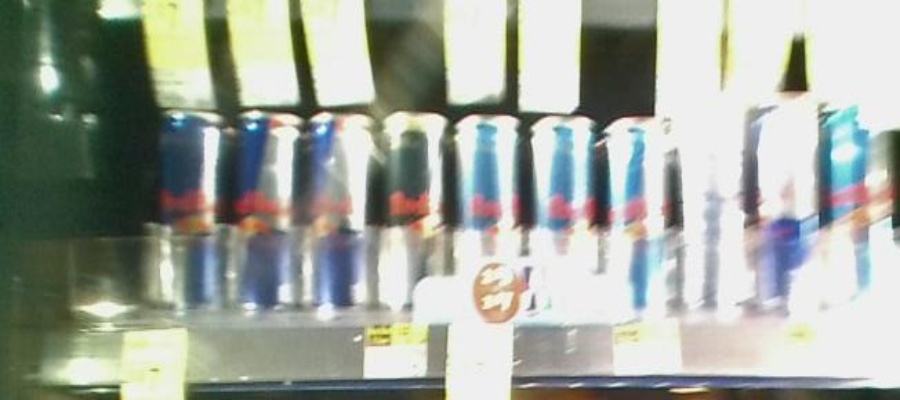bottle: (225, 101, 305, 326), (451, 101, 527, 331), (676, 109, 751, 324), (377, 99, 447, 321), (153, 101, 219, 326), (529, 104, 595, 328), (603, 104, 669, 319), (311, 99, 374, 319), (759, 97, 821, 319), (832, 103, 892, 321)
